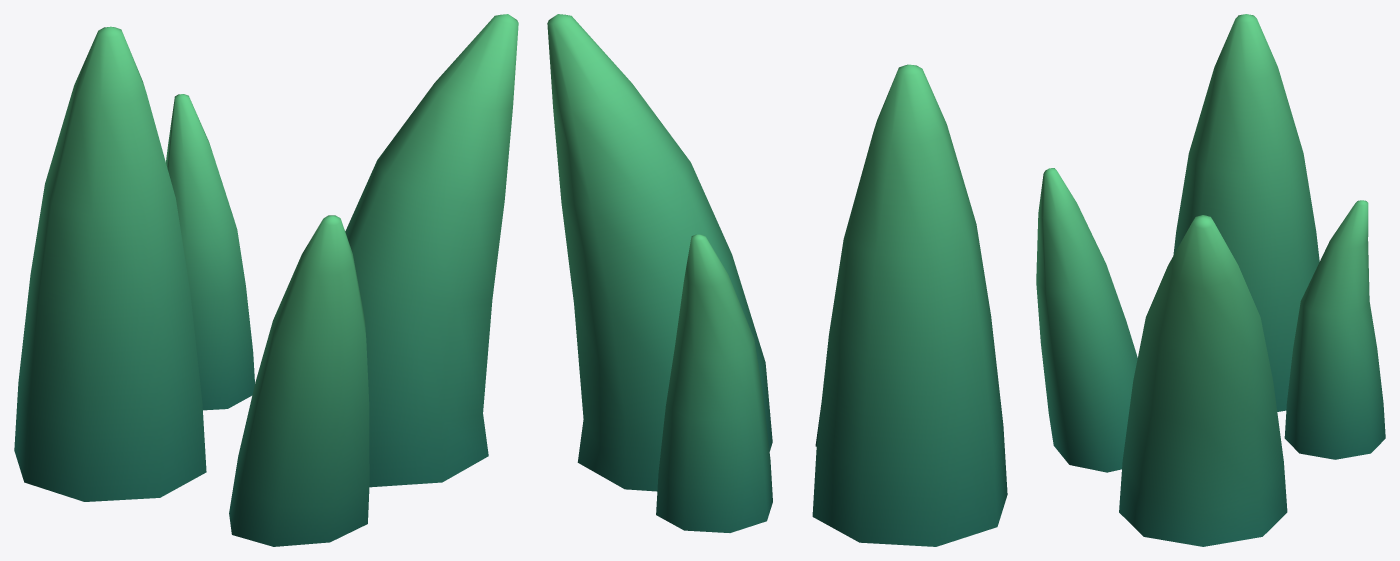
Rendered from Grass.001.fbx.
3 views of the same model, side by side, from view 1: azimuth 30°, elevation 25°; view 2: azimuth 150°, elevation 25°; view 3: azimuth 270°, elevation 25° (orthographic). The views are drawn at different scales.
Parts seen in each view (by area): view 1: Grass.001; view 2: Grass.001; view 3: Grass.001.
Boxes of the visible parts, box(x1,y1,x2,y2) form: Grass.001: box(14, 14, 518, 546); Grass.001: box(547, 14, 1007, 546); Grass.001: box(1036, 14, 1385, 546).
Size of the model in its own units: 0.2781 by 0.264 by 0.2127.
